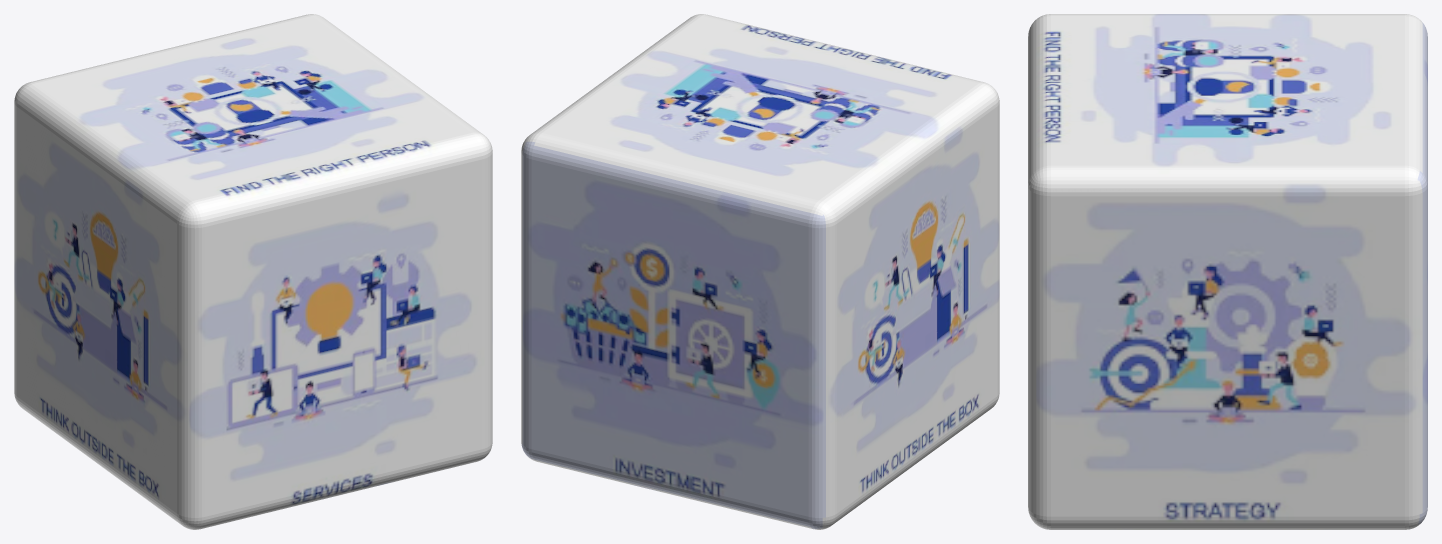
3 renders of one model, left to right at view 1: azimuth 30°, elevation 25°; view 2: azimuth 150°, elevation 25°; view 3: azimuth 270°, elevation 25°, orthographic. The views are drawn at different scales.
Parts seen in each view (by area): view 1: Cube; view 2: Cube; view 3: Cube.
Boxes of the visible parts, <box> form: Cube: <box>14,14,492,529</box>; Cube: <box>521,14,999,529</box>; Cube: <box>1028,14,1427,529</box>.
Bounding box in the file's own units: 2 × 2 × 2.
Materials: 1 (1 with a texture image).
